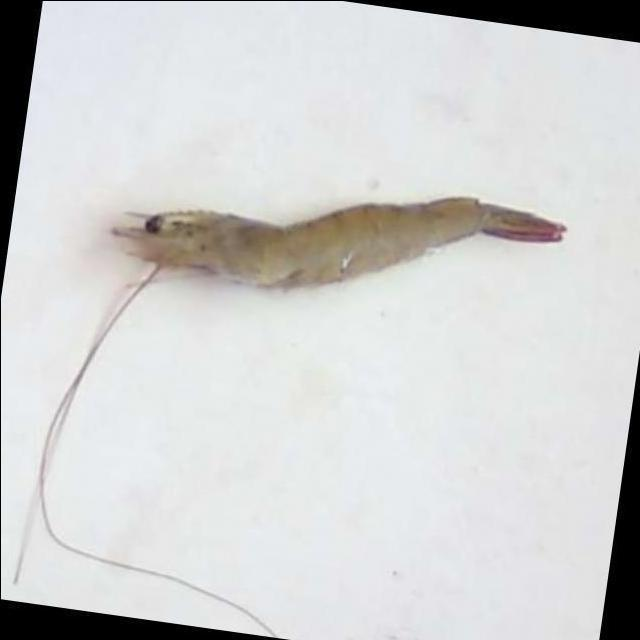shrimp: (112, 196, 565, 288)
